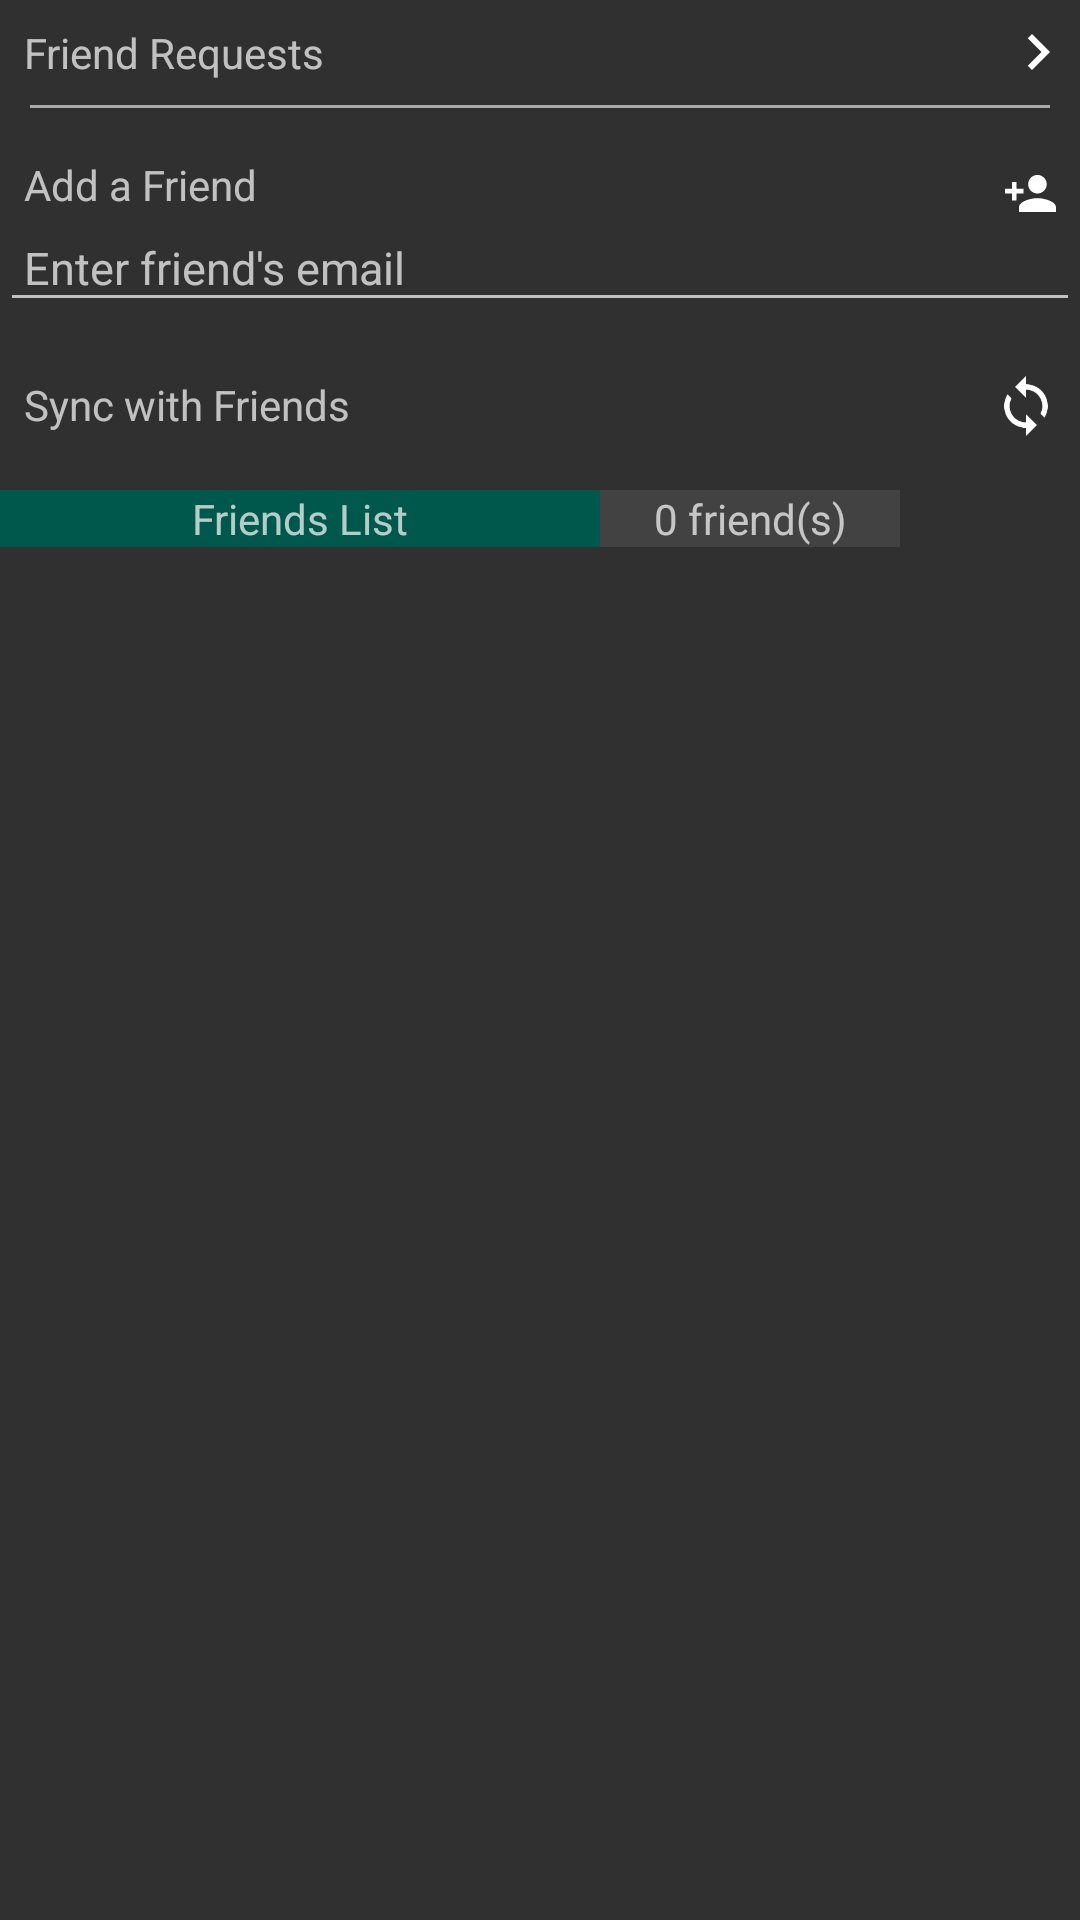

Screen size 1080 × 1920. Icon name, then its box in pixels as (x1, y1, x2, y2):
right arrow: (1028, 34, 1050, 70)
sync: (1004, 376, 1048, 436)
